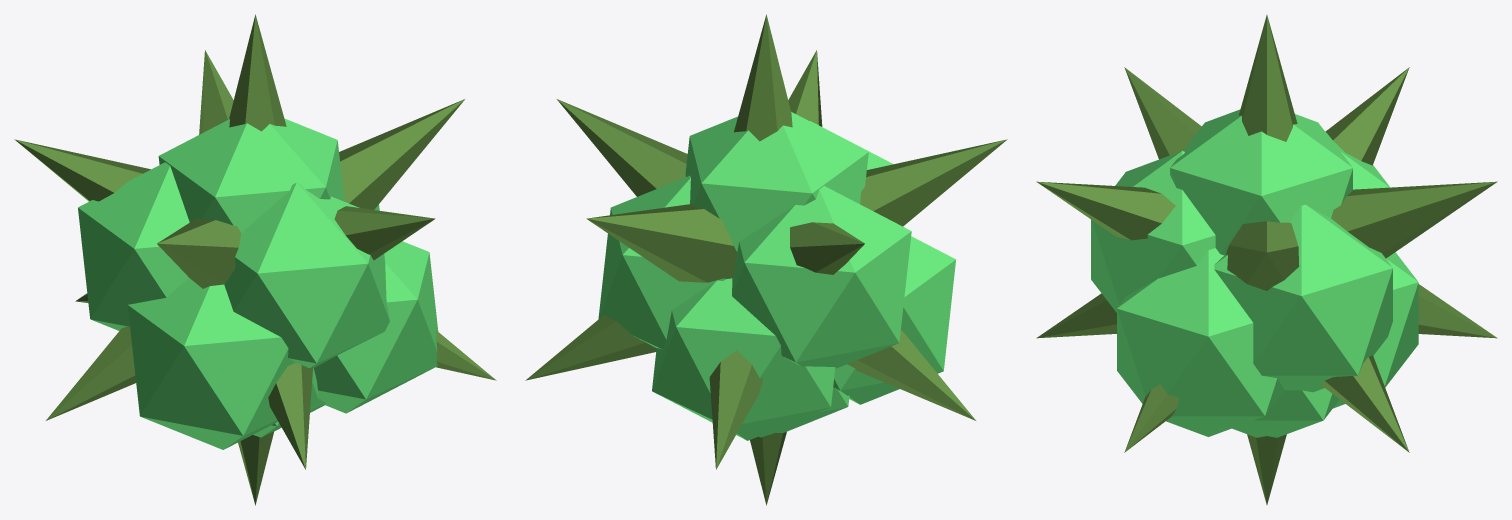
The model's file is seed2.fbx.
3 views of the same model, side by side, from view 1: azimuth 30°, elevation 25°; view 2: azimuth 150°, elevation 25°; view 3: azimuth 270°, elevation 25° (orthographic).
Visible parts, largest first — view 1: Icosphere.002, Icosphere.001, Icosphere.006, Icosphere.008, Icosphere.007, Icosphere.005; view 2: Icosphere.002, Icosphere.007, Icosphere.008, Icosphere.003, Icosphere.004, Icosphere.001, Icosphere; view 3: Icosphere.002, Icosphere.005, Icosphere.004, Icosphere.008, Icosphere.006, Icosphere.003, Icosphere, Icosphere.007.
Boxes of the visible parts, box(x1,y1,x2,y2) form: Icosphere.002: box(14, 14, 496, 505); Icosphere.001: box(127, 278, 318, 449); Icosphere.006: box(224, 182, 389, 368); Icosphere.008: box(158, 118, 344, 232); Icosphere.007: box(78, 162, 189, 330); Icosphere.005: box(314, 241, 438, 413); Icosphere.002: box(525, 14, 1007, 505); Icosphere.007: box(732, 186, 911, 368); Icosphere.008: box(685, 112, 868, 253); Icosphere.003: box(652, 278, 835, 440); Icosphere.004: box(598, 175, 725, 349); Icosphere.001: box(833, 236, 955, 404); Icosphere: box(759, 388, 849, 437); Icosphere.002: box(1036, 15, 1497, 504); Icosphere.005: box(1117, 248, 1284, 436); Icosphere.004: box(1214, 204, 1392, 392); Icosphere.008: box(1170, 109, 1352, 255); Icosphere.006: box(1091, 151, 1215, 312); Icosphere.003: box(1333, 252, 1418, 408); Icosphere: box(1232, 388, 1339, 437); Icosphere.007: box(1325, 131, 1390, 189).
Bounding box in the file's own units: 31.57 × 35.3 × 30.03.
